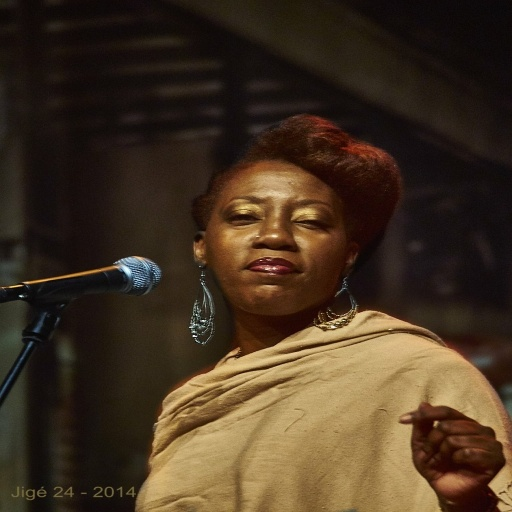hand: (396, 401, 512, 506)
